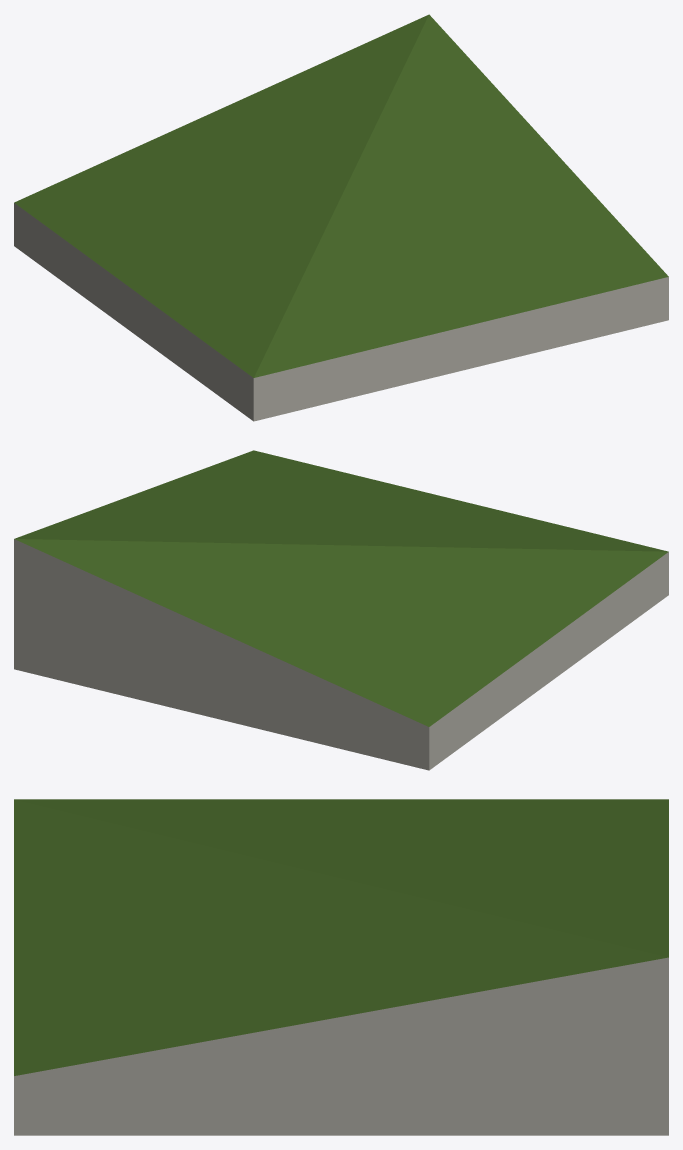
File: Terrain_Modular_Tiles_Grass_Rock_Ramp_Corner_Large_01.fbx
3 views of the same model, one above another, from view 1: azimuth 30°, elevation 25°; view 2: azimuth 150°, elevation 25°; view 3: azimuth 270°, elevation 25° (orthographic). The views are drawn at different scales.
Parts seen in each view (by area): view 1: Terrain_Modular_Tiles_Grass_Rock_Ramp_Corner_Large_01; view 2: Terrain_Modular_Tiles_Grass_Rock_Ramp_Corner_Large_01; view 3: Terrain_Modular_Tiles_Grass_Rock_Ramp_Corner_Large_01.
Part boxes in pixels (x1,y1,x2,y2): Terrain_Modular_Tiles_Grass_Rock_Ramp_Corner_Large_01: (14, 14, 668, 421); Terrain_Modular_Tiles_Grass_Rock_Ramp_Corner_Large_01: (14, 450, 668, 770); Terrain_Modular_Tiles_Grass_Rock_Ramp_Corner_Large_01: (14, 799, 668, 1135).
Bounding box in the file's own units: 118 × 35.43 × 118.
